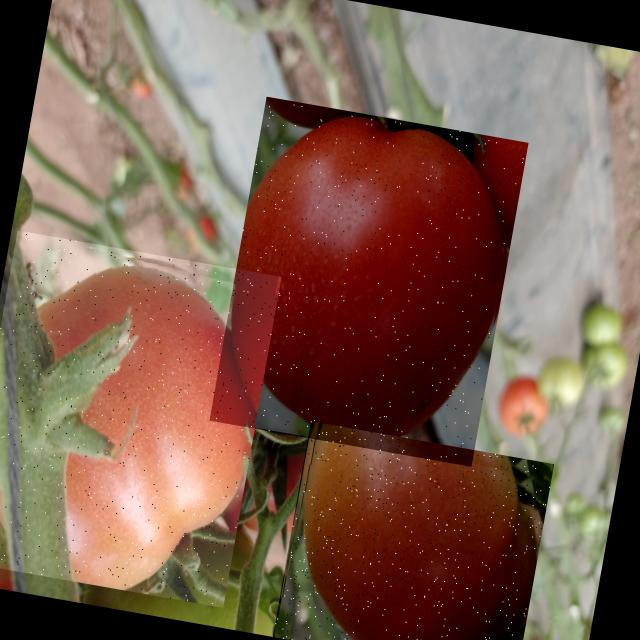Ripe Tomato: (209, 96, 528, 466), (0, 230, 281, 607), (272, 420, 553, 640)
